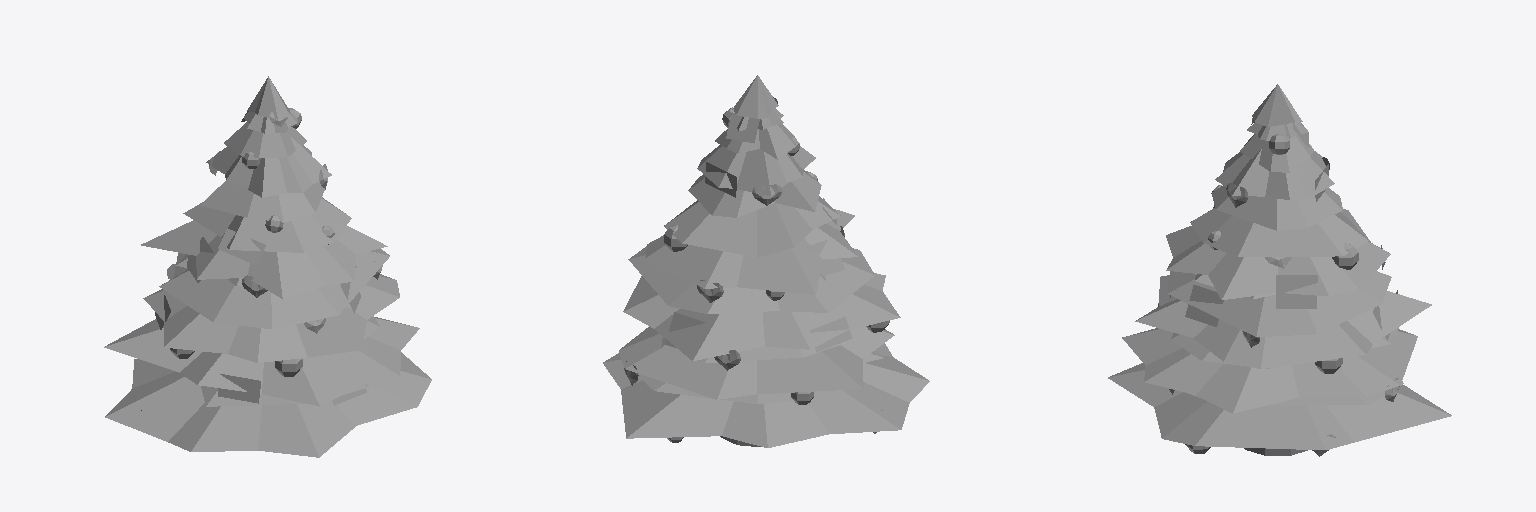
The model's file is cranberry-christmastree.obj.
The picture shows the model from 3 angles: view 1: azimuth 30°, elevation 25°; view 2: azimuth 150°, elevation 25°; view 3: azimuth 270°, elevation 25°; orthographic projection.
Visible parts, largest first — view 1: cranberry-christmastree; view 2: cranberry-christmastree; view 3: cranberry-christmastree.
Boxes of the visible parts, x1,y1,x2,y2 form: cranberry-christmastree: [104, 76, 431, 457]; cranberry-christmastree: [603, 75, 929, 447]; cranberry-christmastree: [1108, 84, 1451, 456].
Bounding box in the file's own units: 136 × 162 × 142.